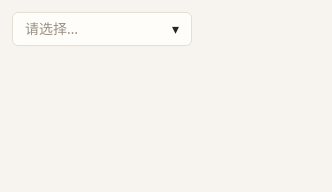
Test: Select › Esc 关闭面板
The image size is (332, 192).
Click the button with aria-label "x".
click(102, 29)  # box [12, 12, 192, 46]
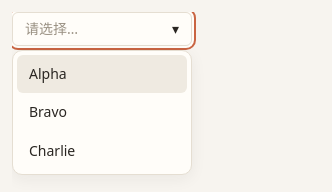
Check: the list is shown, box [12, 50, 192, 175]
Press Escape
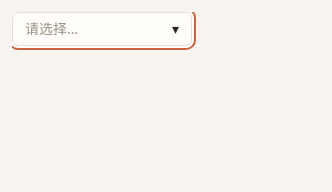
Check: the list is gone
